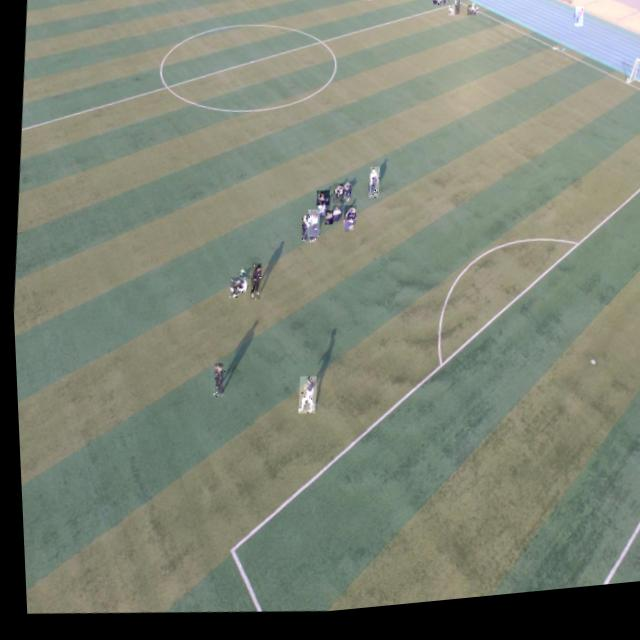Person: (293, 380, 314, 420), (204, 365, 225, 402), (245, 267, 260, 305), (225, 280, 245, 304), (300, 217, 315, 249), (365, 173, 379, 206), (303, 214, 318, 243), (329, 189, 343, 211), (297, 218, 307, 247), (339, 187, 352, 209), (313, 195, 328, 212), (340, 211, 354, 228), (573, 17, 583, 39), (340, 219, 352, 237), (328, 210, 340, 228), (314, 206, 324, 222), (321, 216, 331, 231), (453, 5, 460, 23), (466, 14, 474, 25), (441, 3, 449, 13), (447, 14, 454, 24), (362, 0, 370, 8), (435, 2, 442, 11), (471, 16, 478, 25), (370, 0, 377, 8), (436, 5, 442, 14), (431, 5, 437, 13), (471, 12, 476, 20), (387, 0, 392, 6), (391, 0, 397, 5), (394, 0, 401, 4), (386, 0, 391, 2), (384, 0, 390, 1)
